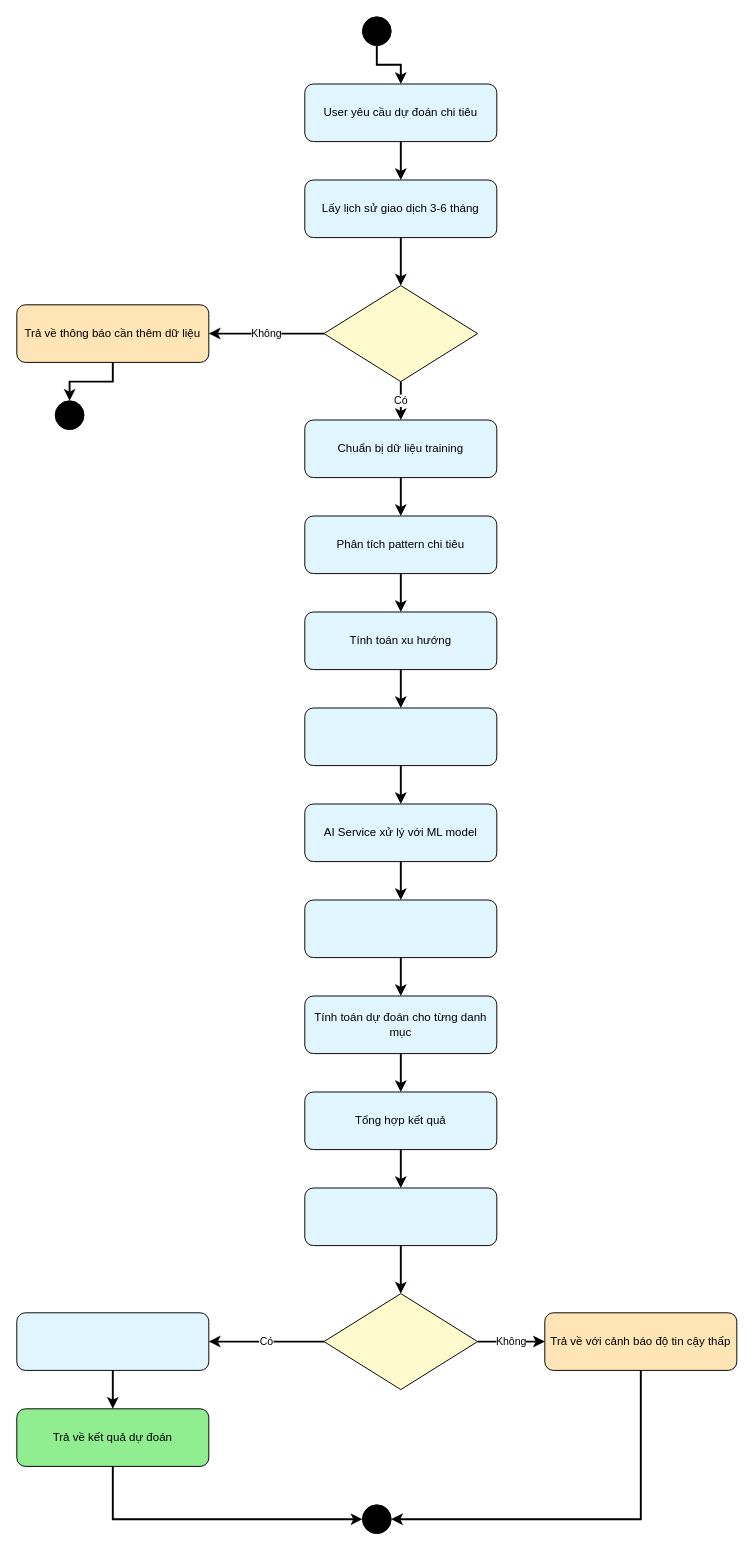
The diagram is 754 pixels wide and 1550 high, and some of its shapes have lost their labels. Here are the shapes that lost their labels. From the top down, the box of each, then its label:
(323, 285, 478, 382): Đủ dữ liệu?
(304, 707, 497, 766): Gọi AI Service
(304, 899, 497, 958): Phân tích theo danh mục
(304, 1187, 497, 1246): Tính toán confidence score
(16, 1312, 209, 1370): Lưu prediction vào DB
(323, 1293, 478, 1390): Confidence > threshold?
